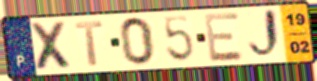0: (118, 16, 158, 67)
5: (162, 14, 197, 64)
E: (202, 10, 246, 63)
J: (246, 7, 284, 63)
T: (73, 20, 105, 68)
X: (28, 20, 77, 72)
